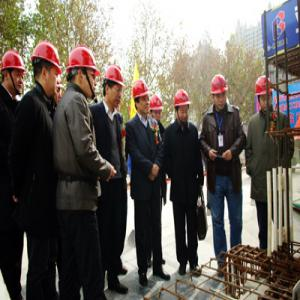red: (33, 42, 63, 99), (68, 45, 99, 98), (3, 52, 25, 98), (103, 65, 125, 110), (174, 89, 193, 126), (256, 76, 275, 112), (210, 75, 230, 109), (134, 80, 151, 116), (149, 95, 163, 124)
